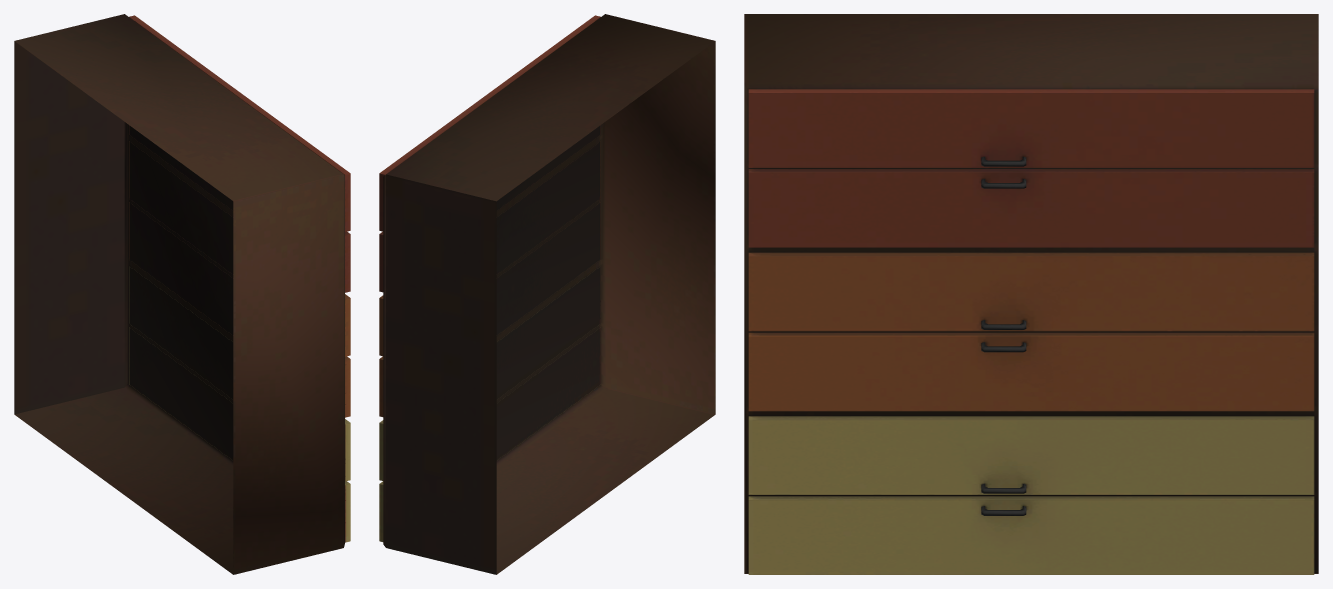
Rendered from nt_shelf_modern_LOD1.obj.
3 renders of one model, left to right at view 1: azimuth 30°, elevation 25°; view 2: azimuth 150°, elevation 25°; view 3: azimuth 270°, elevation 25°, orthographic. The views are drawn at different scales.
Parts seen in each view (by area): view 1: mtl_nt_shelf_modern; view 2: mtl_nt_shelf_modern; view 3: mtl_nt_shelf_modern.
Part boxes in pixels (x1,y1,x2,y2): mtl_nt_shelf_modern: (14, 14, 350, 574); mtl_nt_shelf_modern: (379, 14, 715, 574); mtl_nt_shelf_modern: (744, 14, 1318, 574).
Bounding box in the file's own units: 57.41 × 160 × 170.
